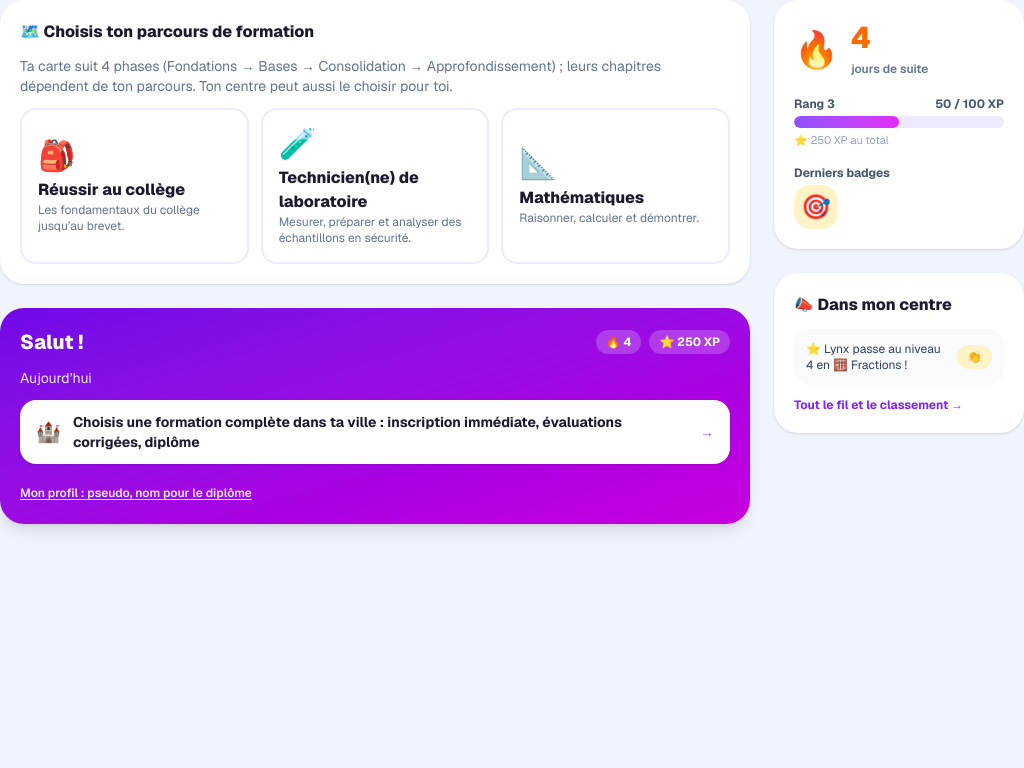
Test: learner command center › asks for a training path first, then shows the chapters of that path
Click the button "Technicien(ne) de laboratoire" at (375, 186), box [261,108,489,264]
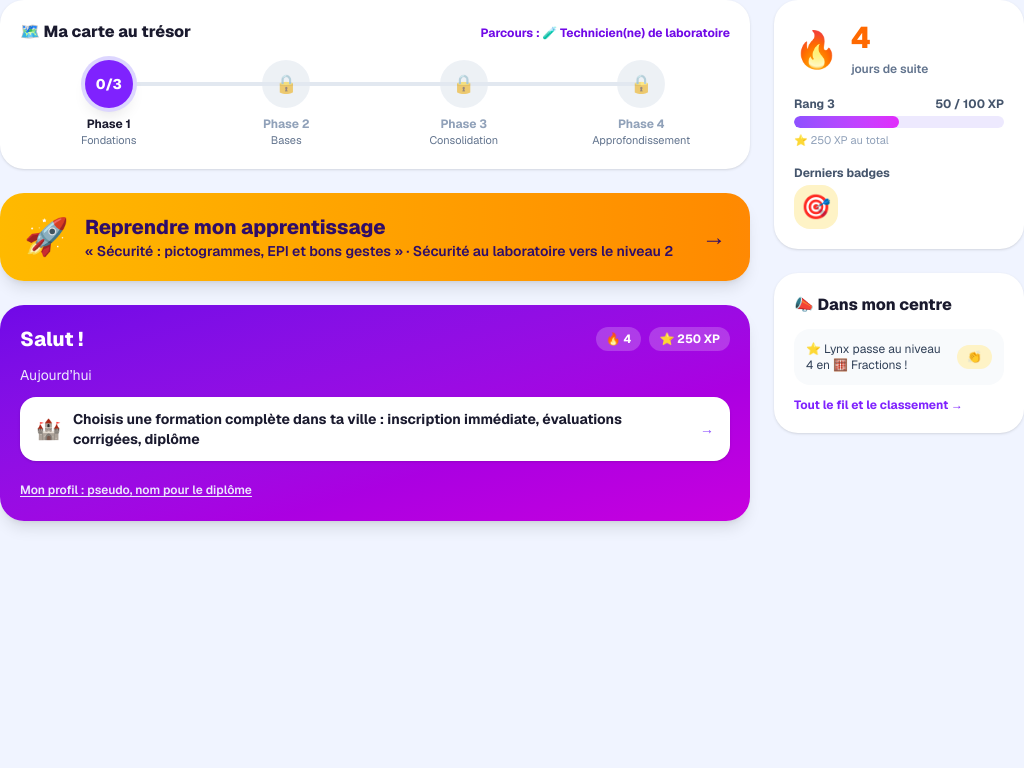
# Same generic phase, the lab chapters (trade skills)
Click the button named "Phase 1 : Fondations, en cours, 0 cours sur 3" at (109, 84), box [85,60,133,108]
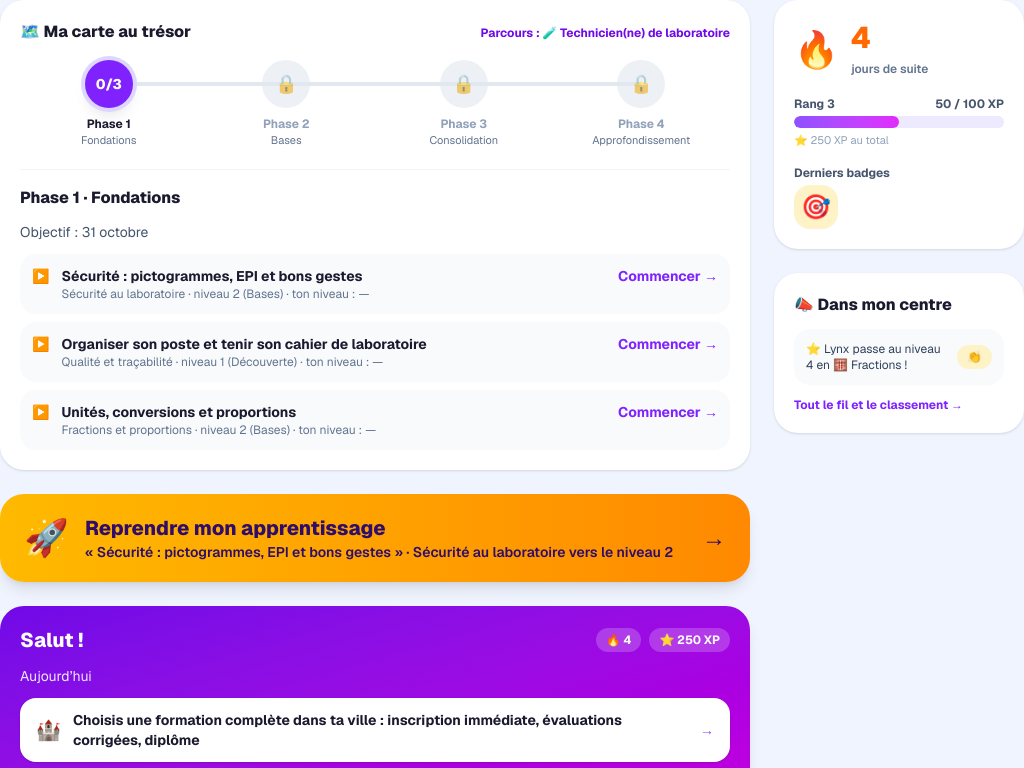
Expected: the button named "Phase 2 : Bases, à venir, verrouillée" is disabled, [262,60,310,108]
Expected: the text "Sécurité : pictogrammes, EPI et bons gestes" is shown, [62,266,362,284]
Expected: the text "Sécurité au laboratoire · niveau 2 (Bases) · ton niveau : —" is shown, [62,286,369,302]
